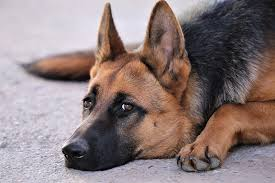dog: (49, 1, 237, 183)
